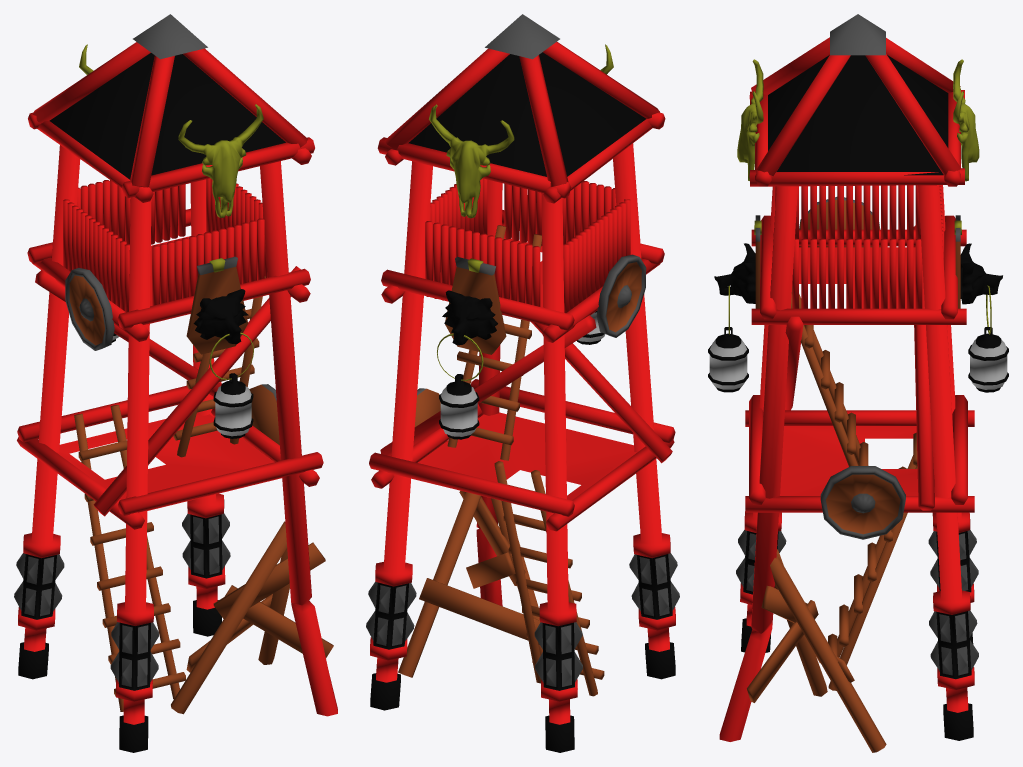
Rendered from turm.FBX.
The picture shows the model from 3 angles, left to right: view 1: azimuth 30°, elevation 25°; view 2: azimuth 150°, elevation 25°; view 3: azimuth 270°, elevation 25°; orthographic projection.
Parts seen in each view (by area): view 1: turm; view 2: turm; view 3: turm.
Part boxes in pixels (<box>): turm: <box>14,14,337,752</box>; turm: <box>366,14,679,752</box>; turm: <box>708,14,1008,752</box>.
Size of the model in its own units: 25.68 by 74.42 by 29.6.
